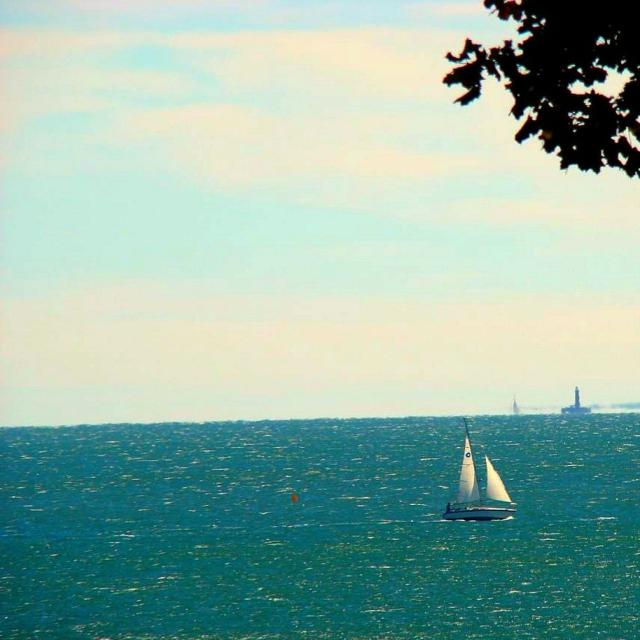Boat: (448, 428, 524, 528)
